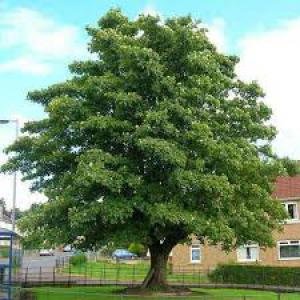Tree: (7, 5, 292, 288)
